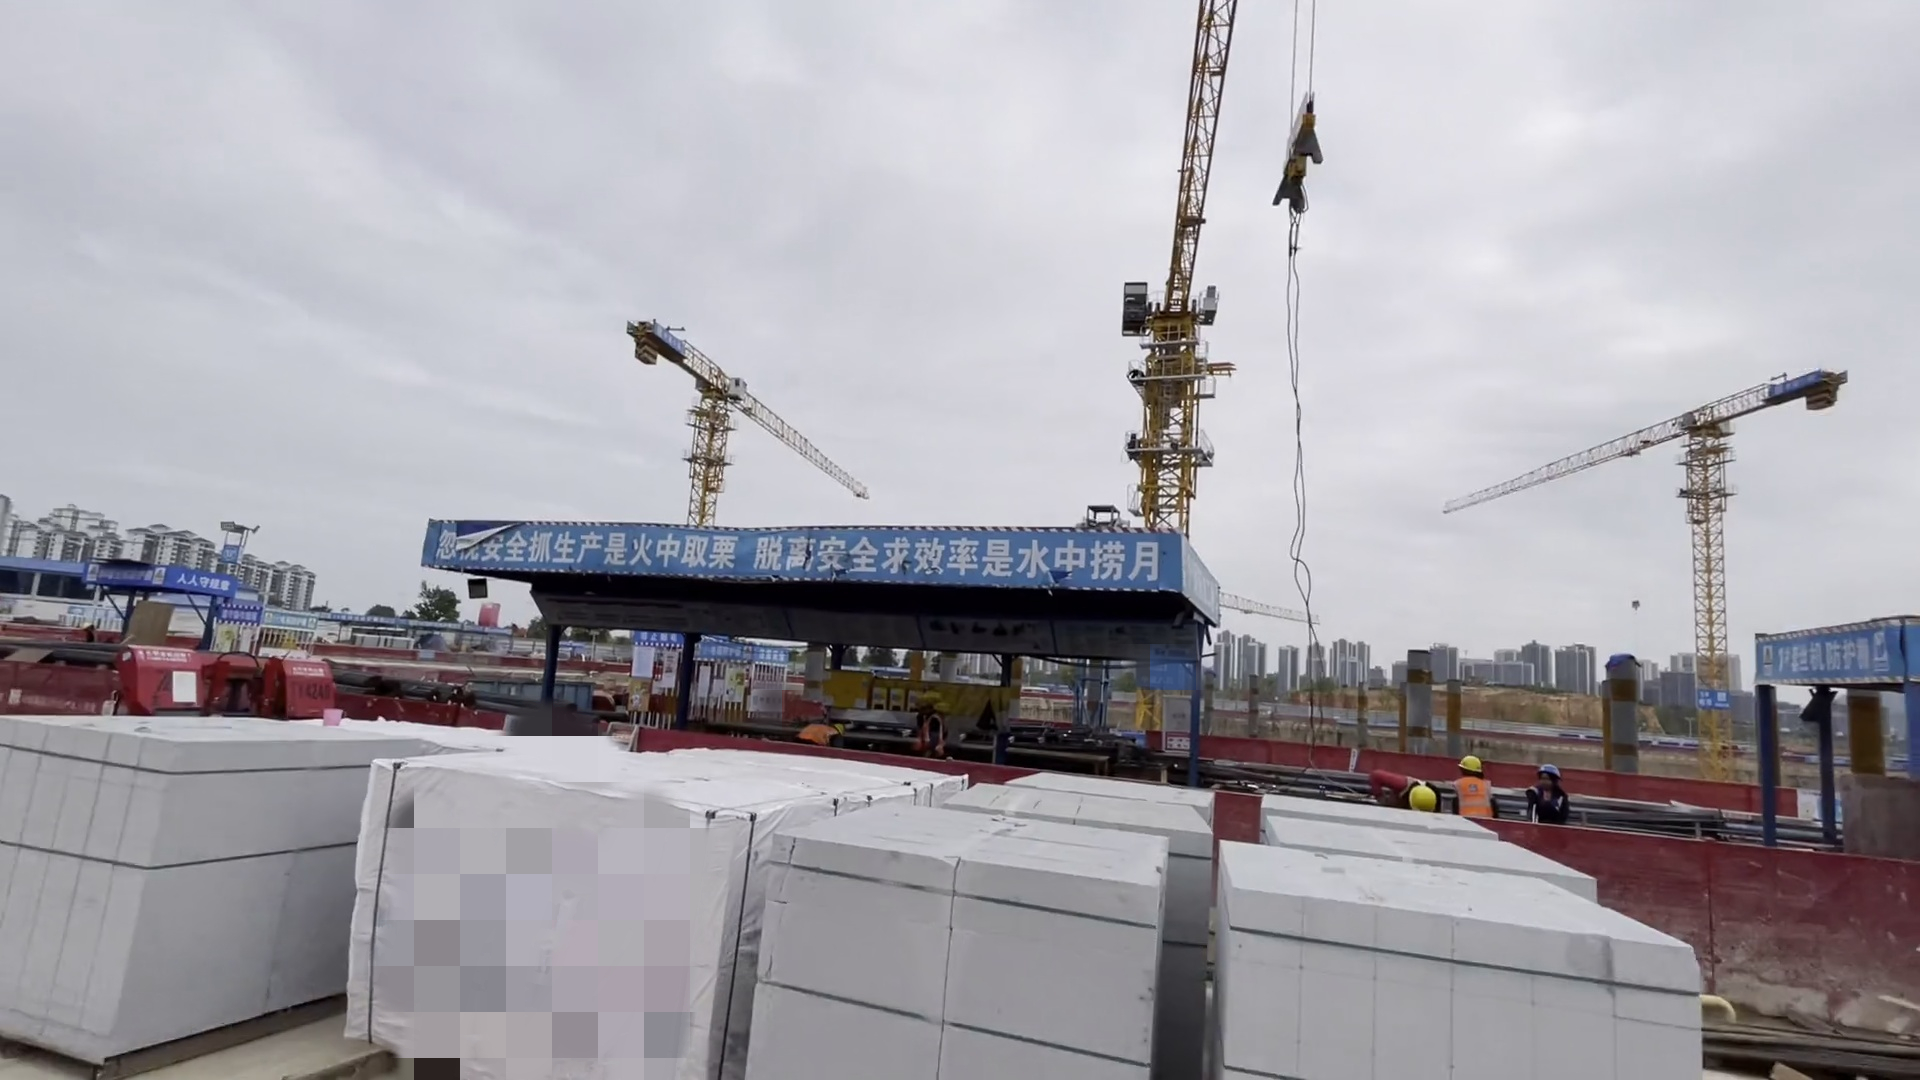brick: (760, 759, 1727, 1080), (6, 709, 362, 1080)
helmet: (1402, 781, 1434, 814), (1462, 753, 1484, 775), (832, 712, 844, 732)
hook: (1273, 92, 1319, 227)
person: (917, 687, 954, 761), (789, 712, 847, 750)
slogan: (423, 518, 1173, 605), (1754, 622, 1917, 690)
vest: (798, 715, 832, 753)
